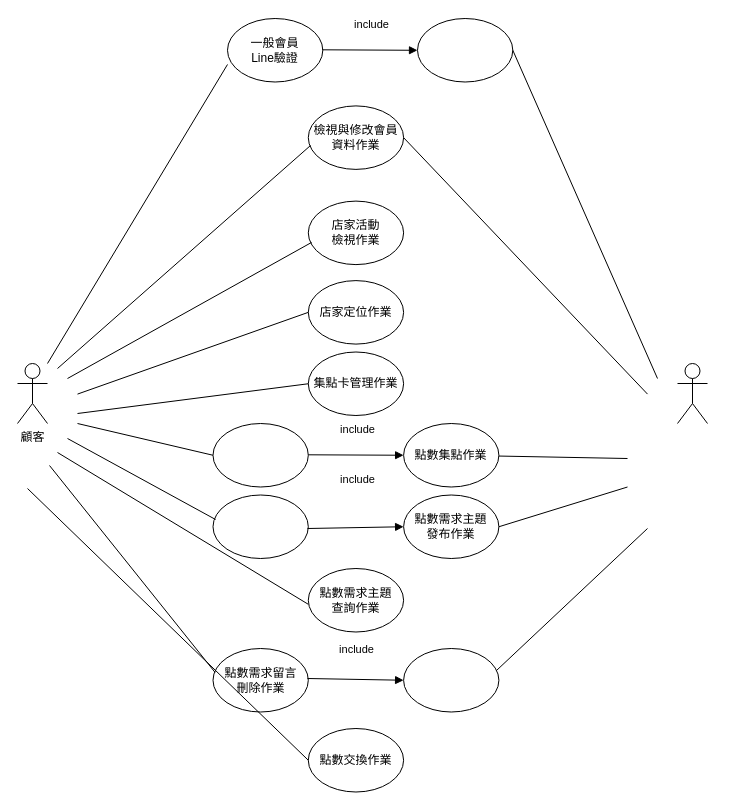
Image size: 740x810. Some labels were removed from this diagram. The centre of each missing label's shape, as x and y in pixels:
商品兌換作業: [260,454]
會員註冊作業: [464,50]
系統管理員: [692,393]
點數需求主題 刪除作業: [260,526]
點數需求留言 發布作業: [451,680]
